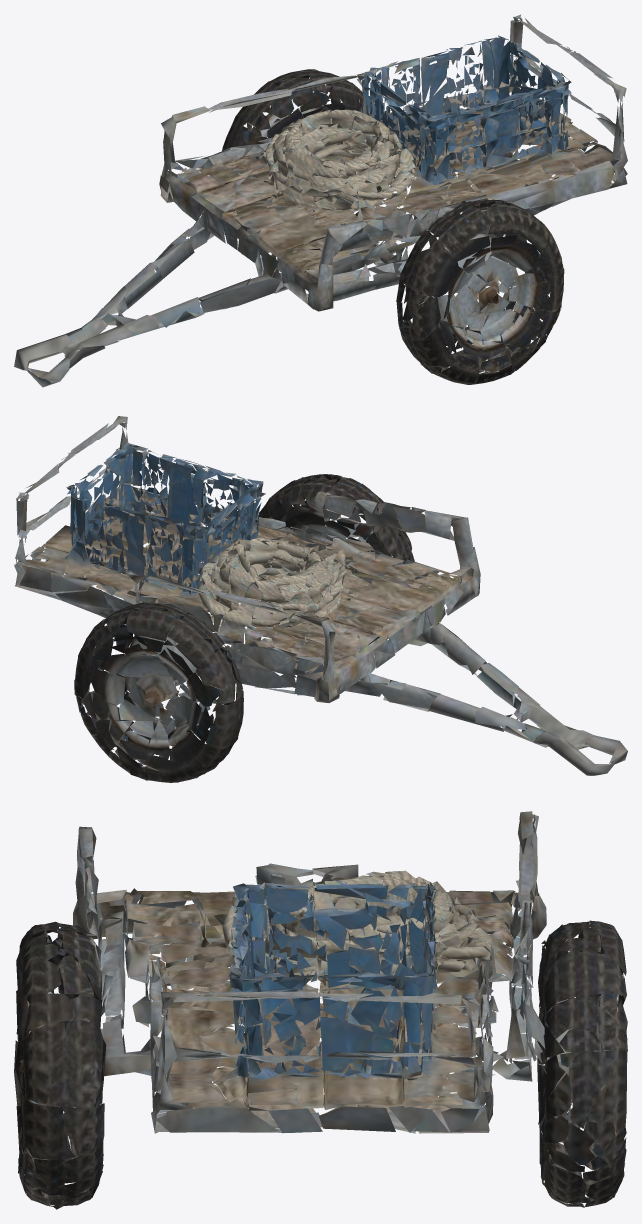
File: dock-cart.glb
3 renders of one model, top to bottom at view 1: azimuth 30°, elevation 25°; view 2: azimuth 150°, elevation 25°; view 3: azimuth 270°, elevation 25°, orthographic. The views are drawn at different scales.
Parts seen in each view (by area): view 1: Mesh_0; view 2: Mesh_0; view 3: Mesh_0.
Part boxes in pixels (left/top/right/bottom): Mesh_0: left=14, top=14, right=627, bottom=387; Mesh_0: left=14, top=416, right=627, bottom=782; Mesh_0: left=14, top=811, right=627, bottom=1209.
Size of the model in its own units: 1.9 by 0.7321 by 1.22.
Materials: 1 (1 with a texture image).
